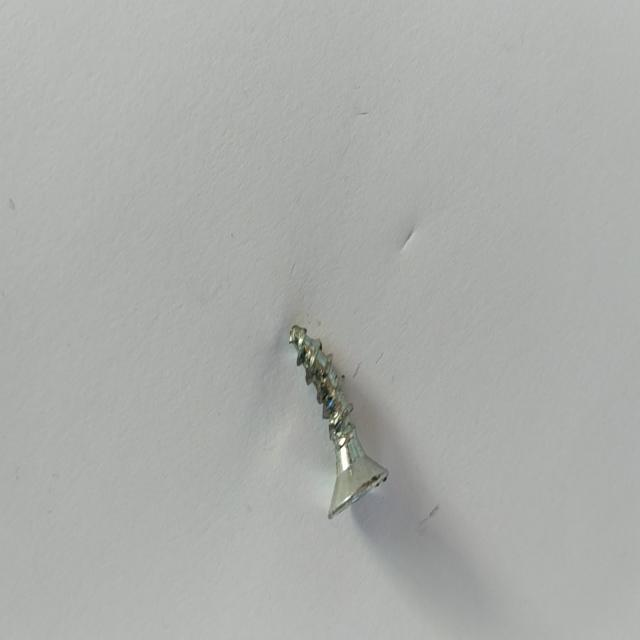Screw: (289, 325, 389, 519)
